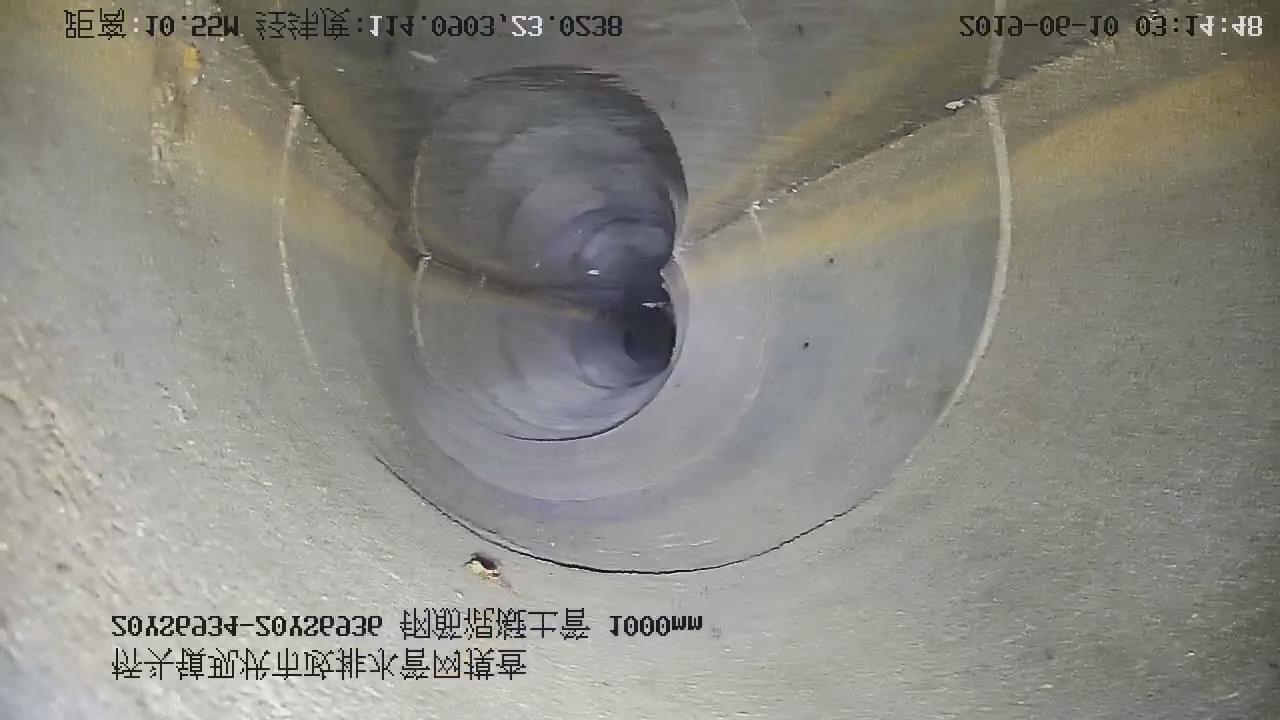CKTJ: (372, 94, 1012, 577), (276, 81, 320, 371), (981, 35, 1004, 90)
